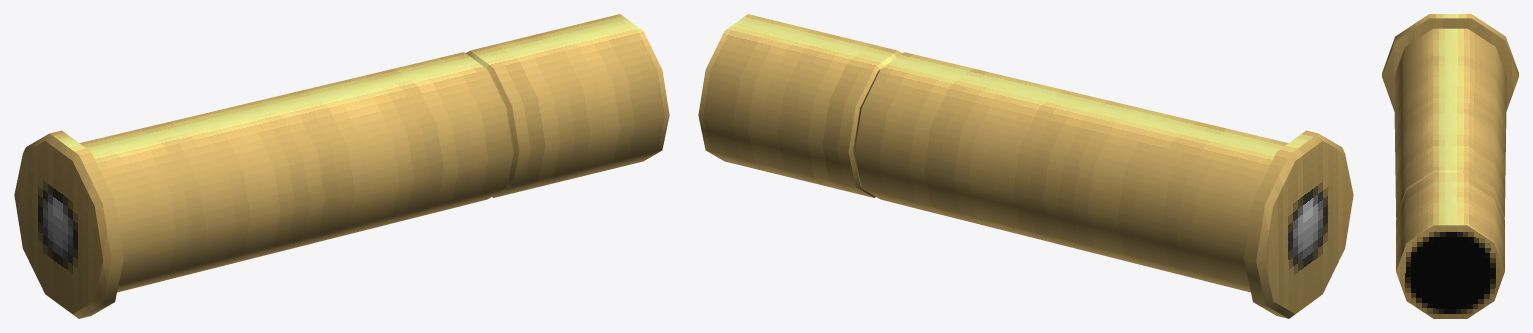
File: ammomaker_CasingStraightLRim.fbx
3 renders of one model, left to right at view 1: azimuth 30°, elevation 25°; view 2: azimuth 150°, elevation 25°; view 3: azimuth 270°, elevation 25°, orthographic. The views are drawn at different scales.
Parts seen in each view (by area): view 1: ammomaker_CasingStraightLRim; view 2: ammomaker_CasingStraightLRim; view 3: ammomaker_CasingStraightLRim.
Part boxes in pixels (x1,y1,x2,y2): ammomaker_CasingStraightLRim: (14,14,669,318); ammomaker_CasingStraightLRim: (698,14,1353,318); ammomaker_CasingStraightLRim: (1382,14,1518,318).
Size of the model in its own units: 5.33 by 1.46 by 1.53.
